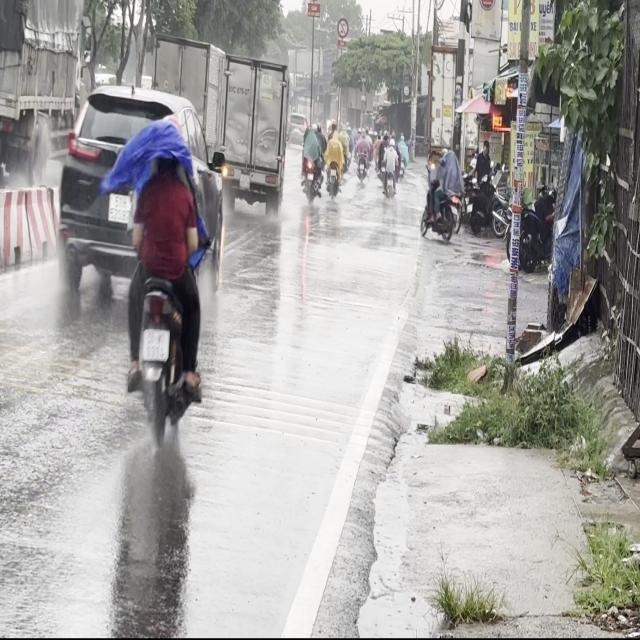licenseplate: (119, 109, 208, 445)
nohelmet: (140, 328, 169, 360)
